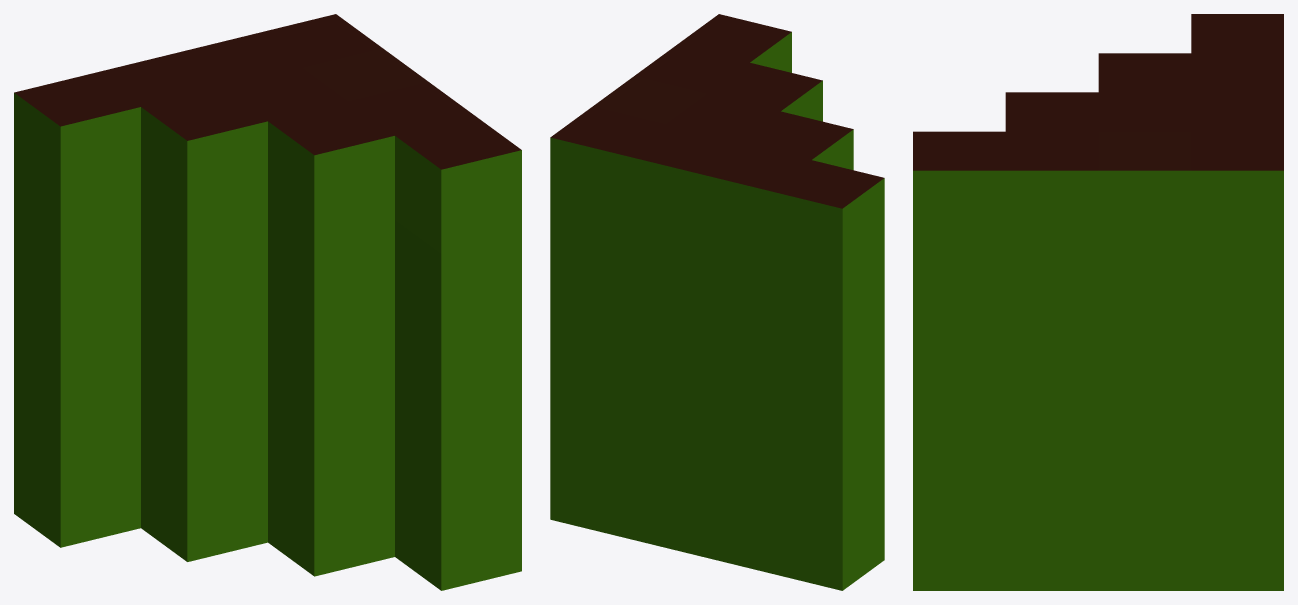
The model's file is block_14.fbx.
3 views of the same model, side by side, from view 1: azimuth 30°, elevation 25°; view 2: azimuth 150°, elevation 25°; view 3: azimuth 270°, elevation 25° (orthographic). The views are drawn at different scales.
Visible parts, largest first — view 1: Box.005; view 2: Box.005; view 3: Box.005.
Boxes of the visible parts, x1,y1,x2,y2 form: Box.005: [14, 14, 521, 590]; Box.005: [550, 14, 884, 590]; Box.005: [913, 14, 1283, 590].
Size of the model in its own units: 4 by 5 by 4.
